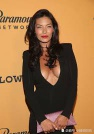female: (25, 10, 61, 52)
